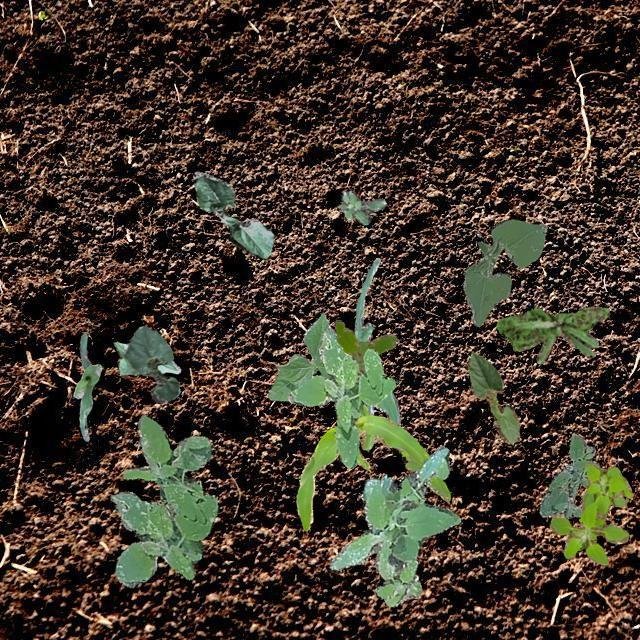crop: (296, 402, 450, 530), (325, 256, 399, 424), (462, 218, 546, 326), (192, 170, 272, 258), (268, 312, 328, 399), (466, 351, 518, 444), (124, 324, 178, 402), (72, 332, 100, 440), (112, 340, 180, 374)
weed: (328, 446, 459, 606), (110, 414, 216, 586), (286, 329, 394, 466), (548, 462, 632, 564), (496, 306, 608, 364), (538, 432, 598, 518), (334, 321, 394, 374), (338, 190, 384, 223)
